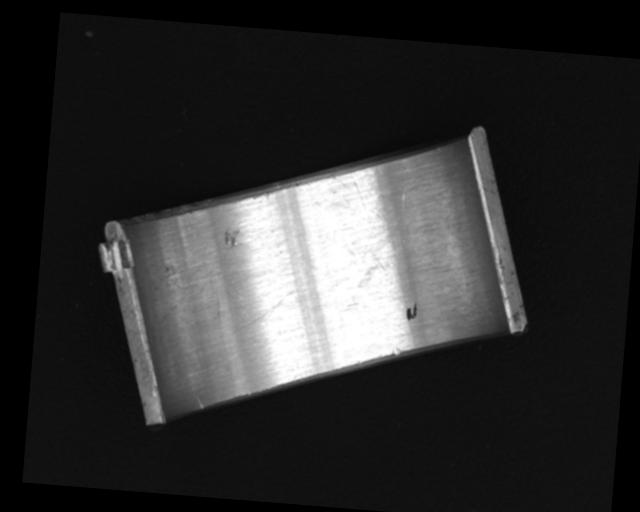blot: (349, 240, 396, 295), (404, 300, 418, 323)
bruise: (222, 226, 240, 248), (391, 347, 400, 356)
nick: (240, 284, 296, 332), (193, 396, 204, 410)
